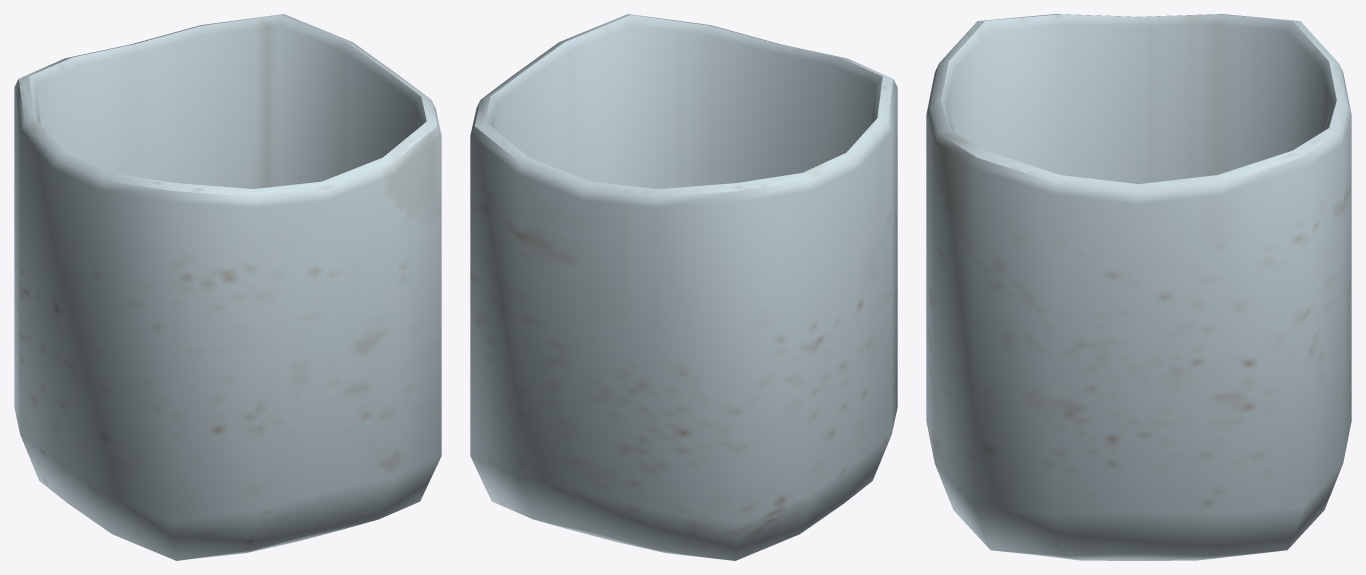
File: RocksGlass.fbx
3 views of the same model, side by side, from view 1: azimuth 30°, elevation 25°; view 2: azimuth 150°, elevation 25°; view 3: azimuth 270°, elevation 25° (orthographic). The views are drawn at different scales.
Visible parts, largest first — view 1: rocks; view 2: rocks; view 3: rocks.
Part boxes in pixels (bbox=[...]): rocks: bbox=[14, 14, 441, 560]; rocks: bbox=[470, 14, 897, 560]; rocks: bbox=[926, 14, 1351, 560].
Bounding box in the file's own units: 0.213 × 0.2338 × 0.213.
